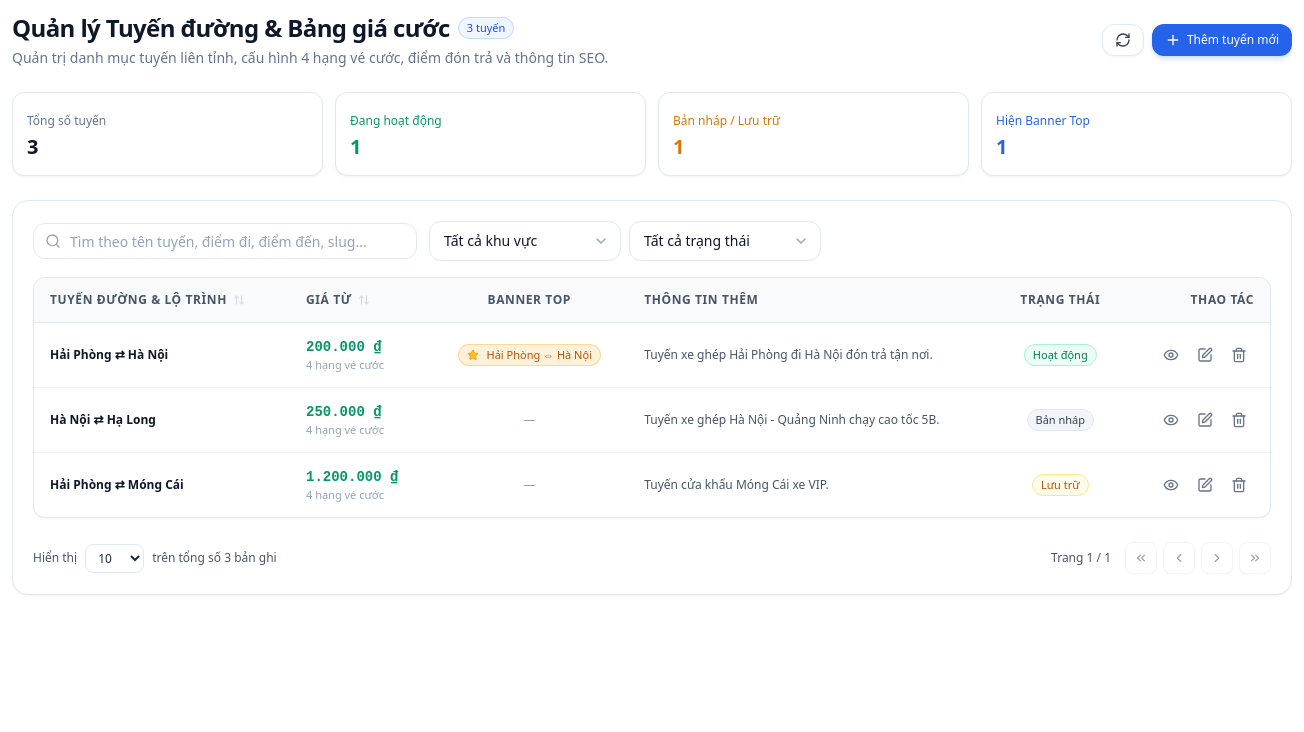
Routes & Pricing Tiers Module (Task T114 & T115) › RouteList Component (Task T114) › lọc danh sách tuyến theo trạng thái (status filter)
Expected: the link "Hải Phòng ⇄ Hà Nội" is shown, [50,346,168,363]
# Lọc active
Select "Đang hoạt động (Active)" in the dropdown with test id "status-filter" at (725, 241), box [629,221,821,261]
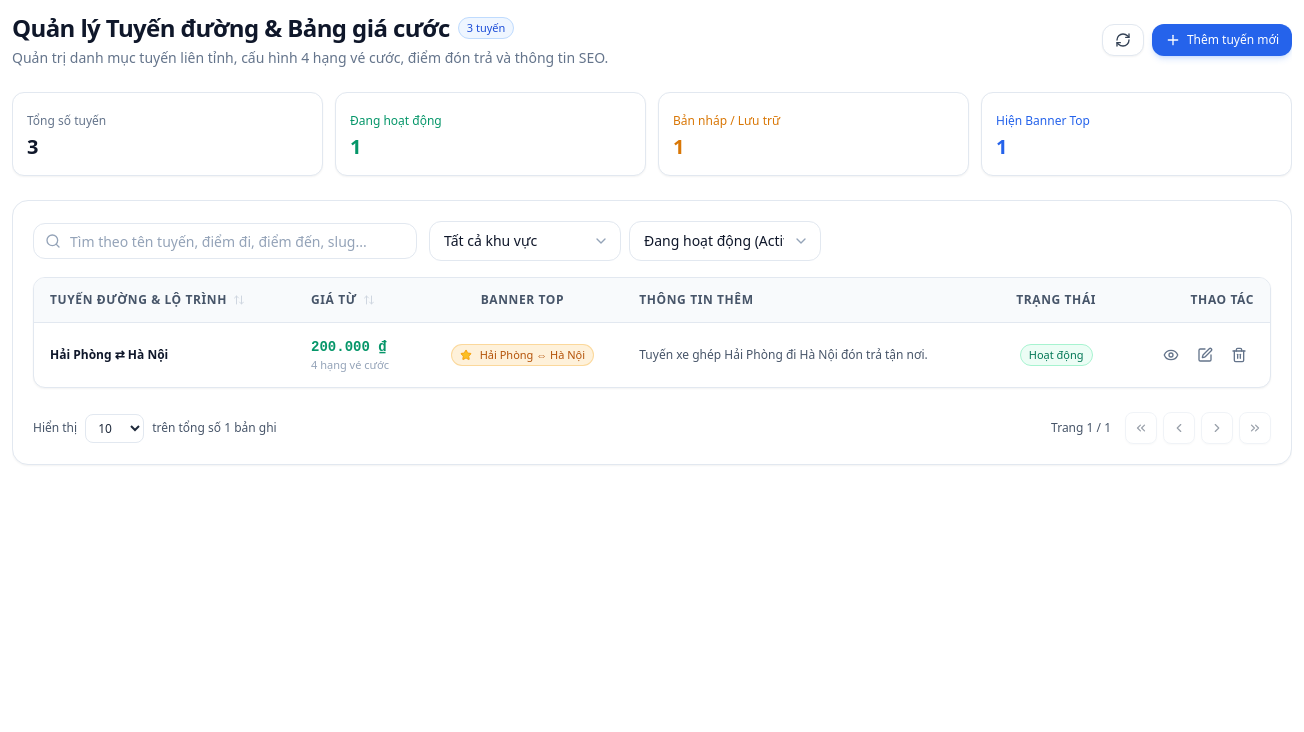
Expected: the link "Hải Phòng ⇄ Hà Nội" is shown, [50,346,168,363]
Expected: the link "Hà Nội ⇄ Hạ Long" is gone
Expected: the link "Hải Phòng ⇄ Móng Cái" is gone
